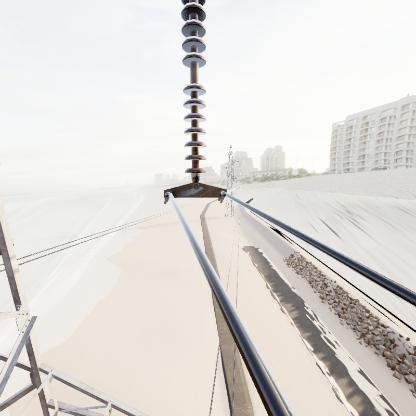insulator: (177, 1, 216, 177)
tower: (217, 140, 244, 215)
